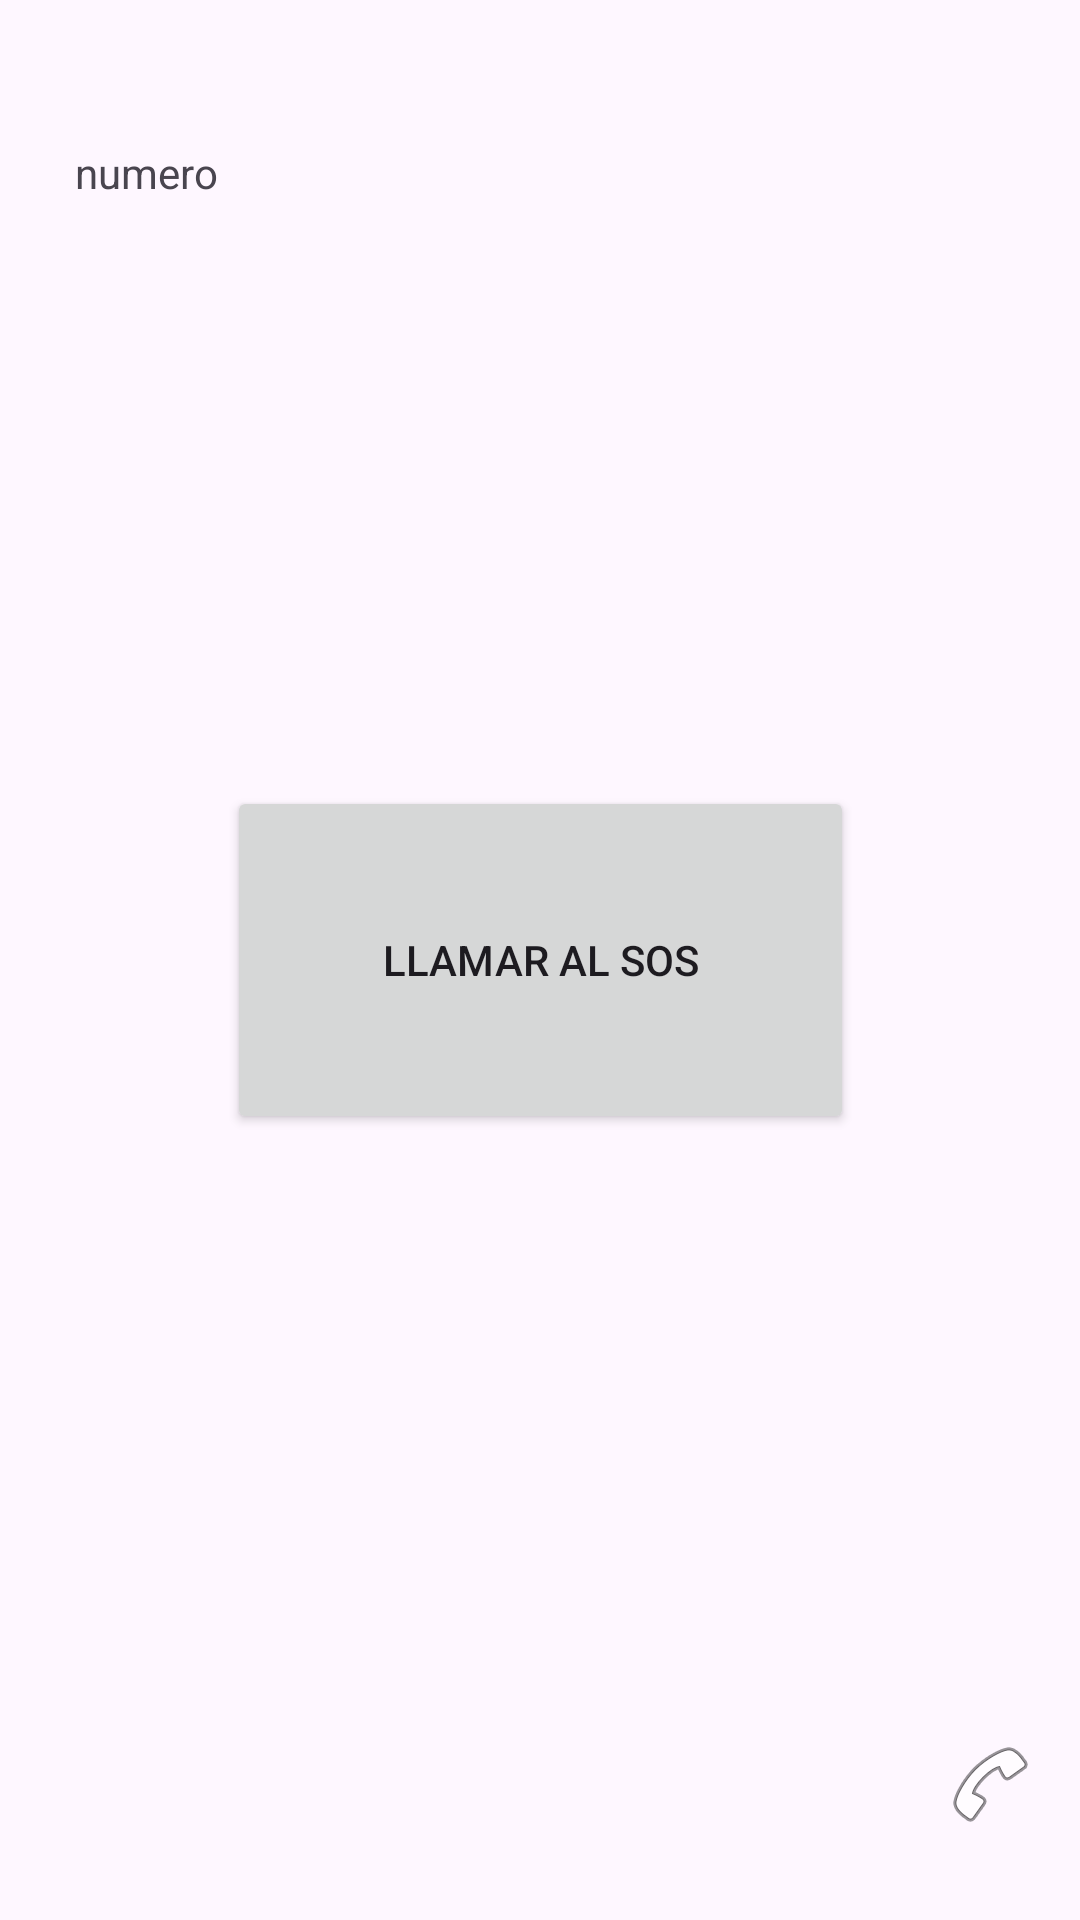

Screen size 1080x1920. Icon name, then its center in pixels as (x,y):
call: (990,1784)
